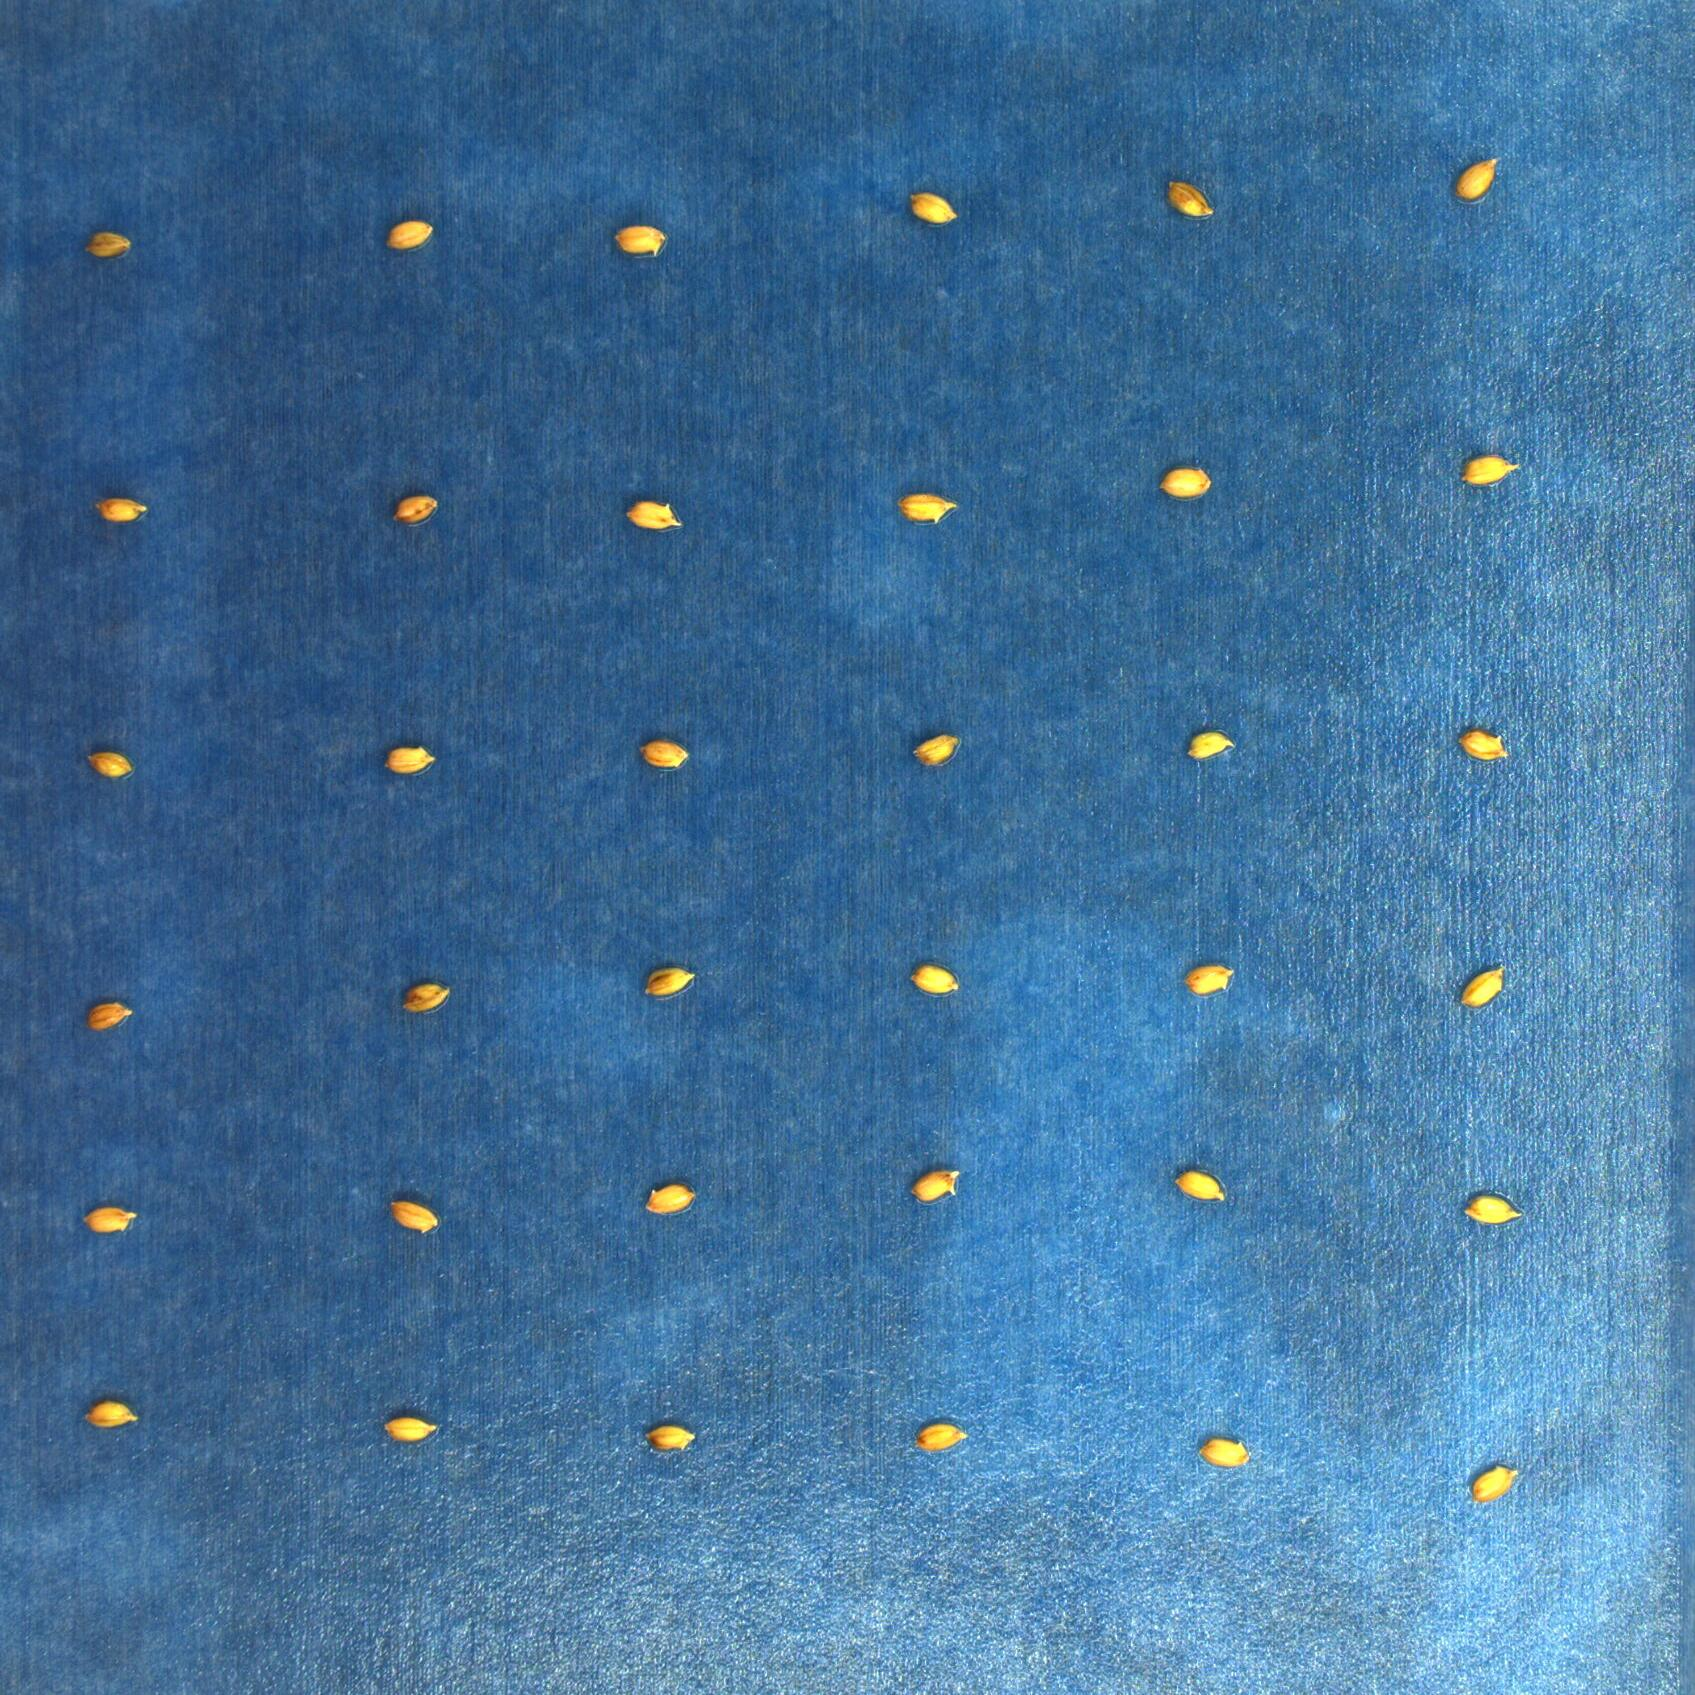not sprout: (1459, 965, 1509, 1010), (1454, 158, 1501, 203), (899, 492, 959, 526), (1461, 1194, 1524, 1225), (624, 498, 681, 532), (1175, 1167, 1229, 1203), (1470, 1465, 1520, 1504), (1167, 182, 1218, 219), (1464, 453, 1520, 487), (911, 1166, 964, 1201), (636, 737, 691, 771), (1458, 726, 1512, 761), (1197, 1434, 1251, 1468), (84, 1205, 137, 1239), (913, 733, 962, 768), (646, 1184, 700, 1217), (380, 1417, 439, 1447), (911, 962, 961, 997), (95, 494, 146, 526), (1159, 467, 1211, 500), (913, 1425, 972, 1453), (390, 492, 438, 526), (613, 224, 664, 255), (400, 983, 452, 1014), (643, 969, 694, 1000), (386, 219, 435, 251), (911, 192, 959, 225), (646, 1423, 695, 1454), (393, 1200, 439, 1232), (85, 230, 133, 261), (82, 1402, 138, 1428), (383, 747, 435, 775), (85, 1001, 133, 1031), (1186, 965, 1236, 993), (87, 750, 133, 779), (1186, 733, 1236, 757)
